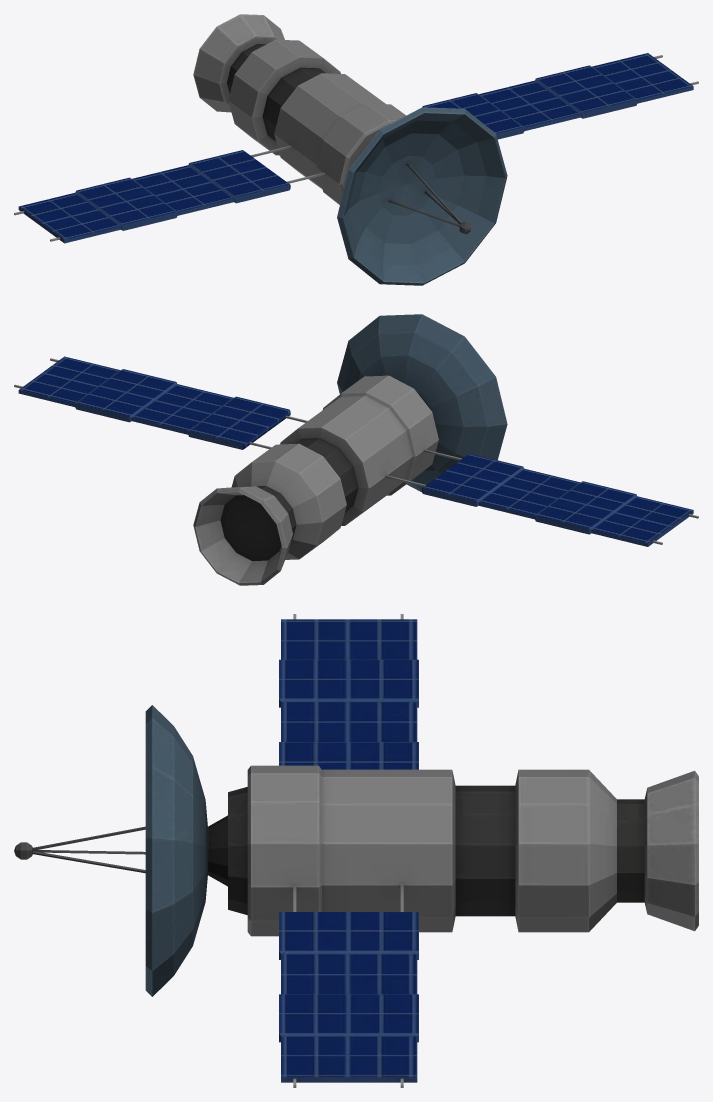
The model's file is satellite.glb.
3 views of the same model, one above another, from view 1: azimuth 30°, elevation 25°; view 2: azimuth 150°, elevation 25°; view 3: azimuth 270°, elevation 25° (orthographic). The views are drawn at different scales.
Visible parts, largest first — view 1: Satellite_mesh; view 2: Satellite_mesh; view 3: Satellite_mesh.
Boxes of the visible parts, x1,y1,x2,y2 form: Satellite_mesh: (14,14,698,285); Satellite_mesh: (14,314,698,585); Satellite_mesh: (14,614,698,1087).
Bounding box in the file's own units: 41.03 × 10.8 × 25.21.
1 material, 1 textured.
